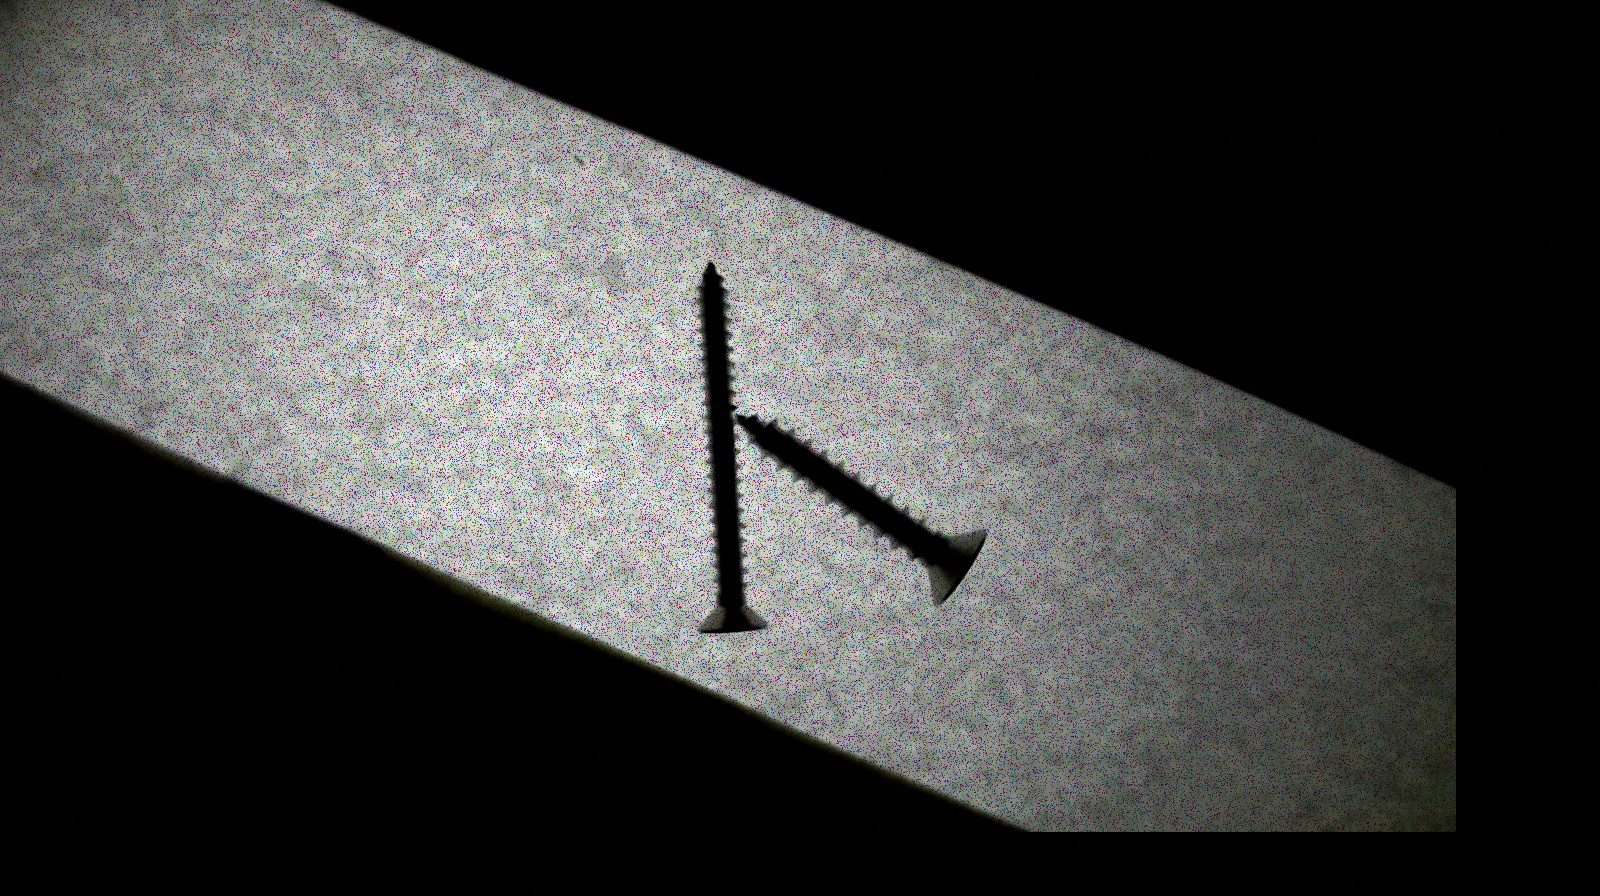S001: (730, 402, 999, 615)
S002: (689, 256, 775, 637)
